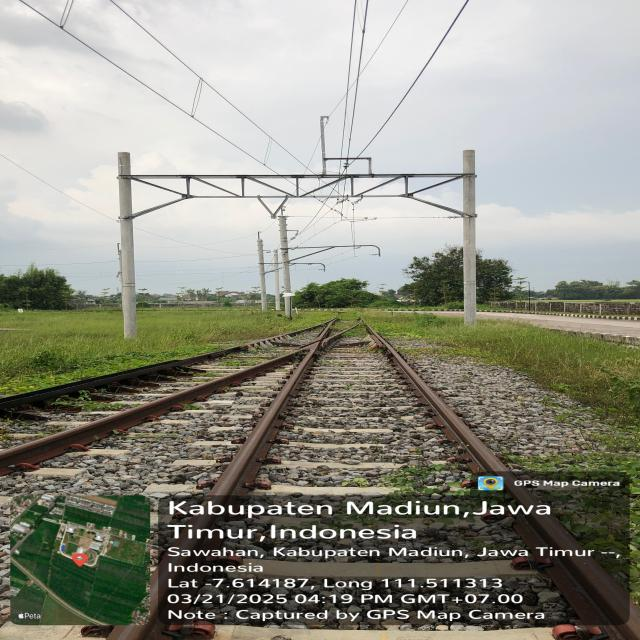rail-detection: (0, 353, 297, 474), (0, 331, 301, 409), (369, 328, 507, 471), (210, 330, 325, 495)
